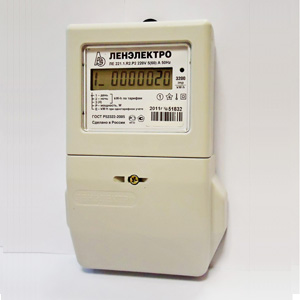counter: (63, 17, 215, 278)
counter_screen: (88, 65, 174, 91)
